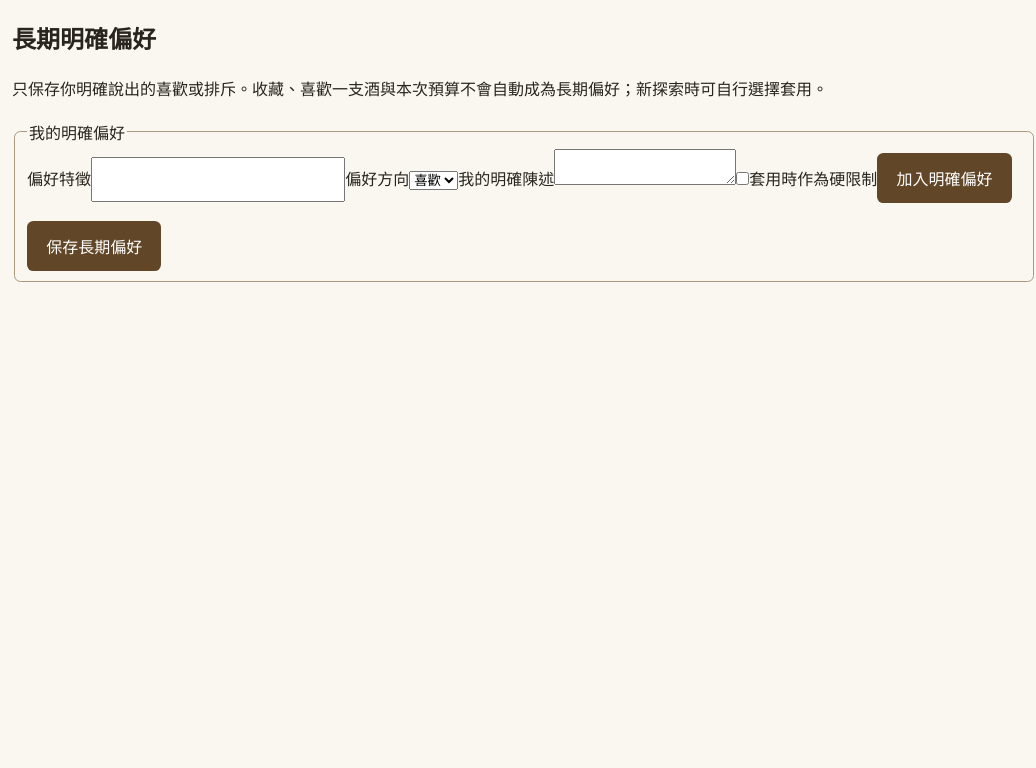
Test: an unknown profile result retries the identical immutable command
Type "果香" into the field labelled "偏好特徵" at (218, 179), box [91,157,345,202]
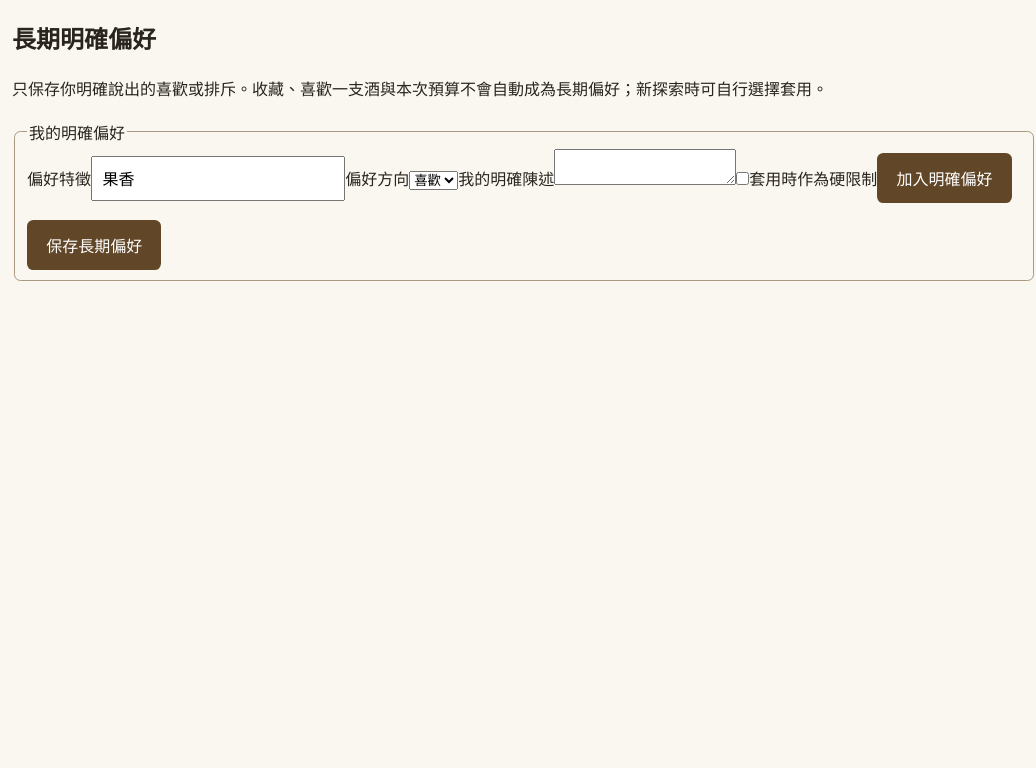
Type "我明確表示喜歡果香" into the text box labelled "我的明確陳述" at (645, 167), box [554,149,736,185]
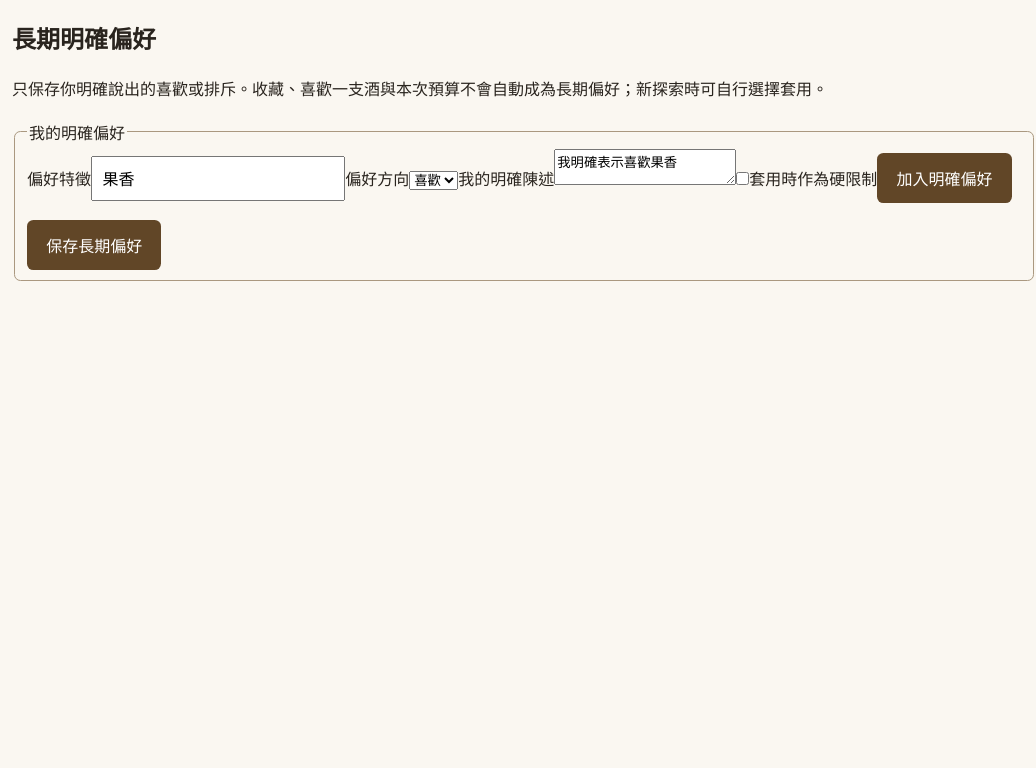
Click the button "加入明確偏好" at (944, 178), box [877,153,1012,203]
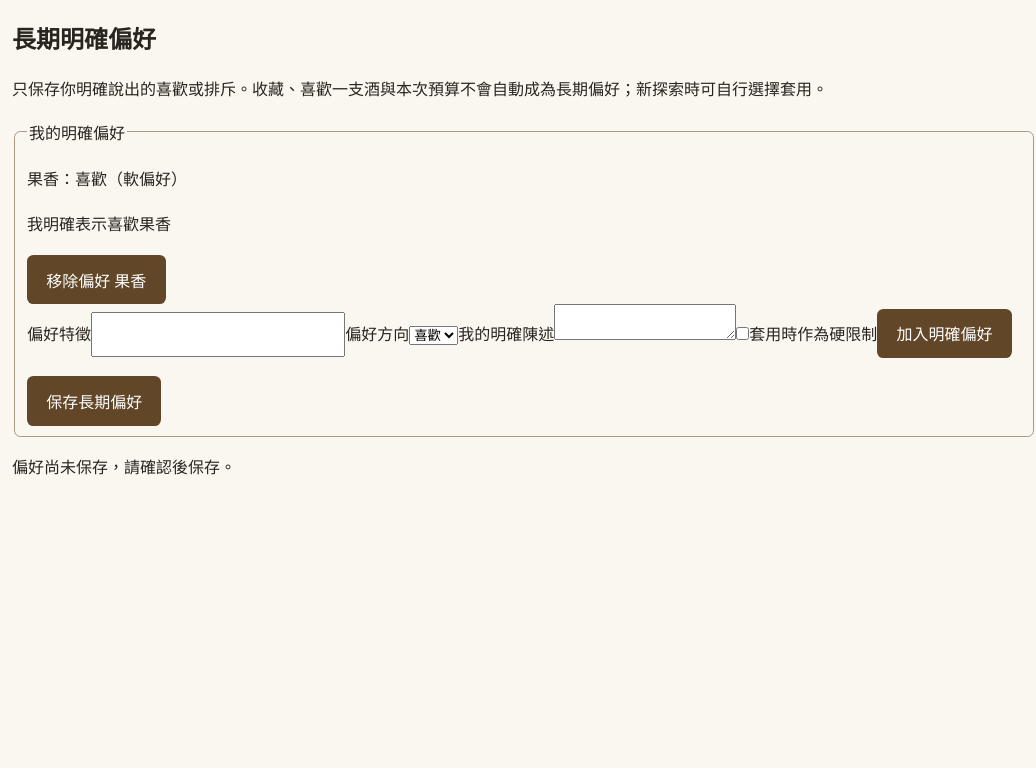
Click the button "保存長期偏好" at (94, 401), box [27,376,161,426]
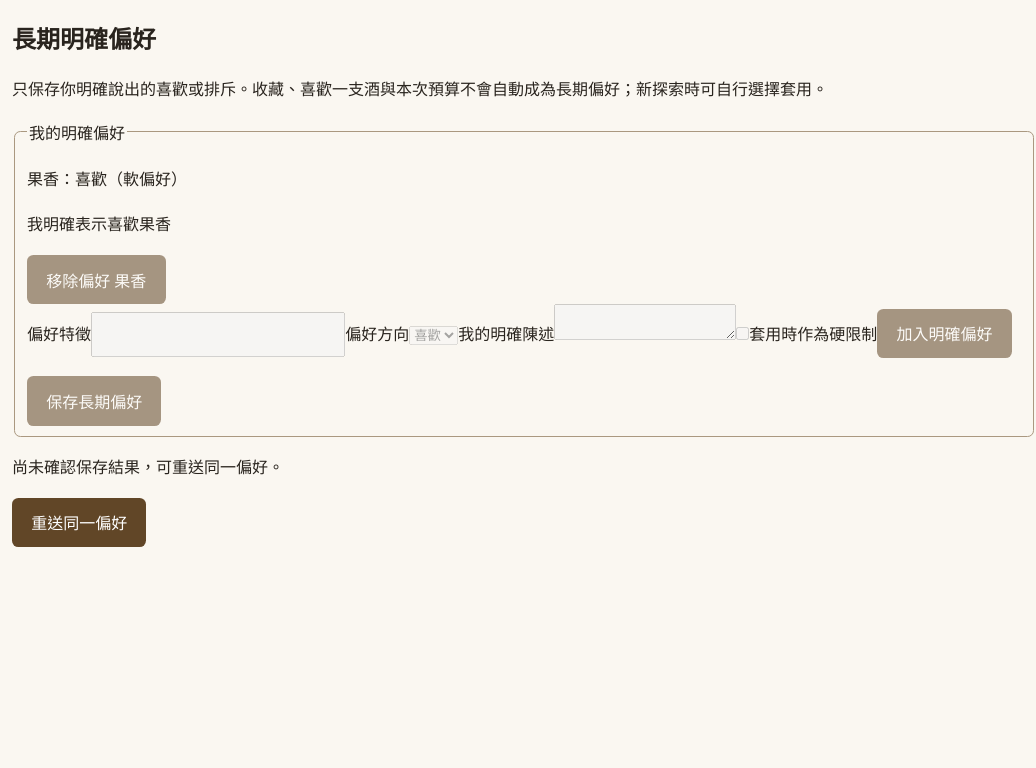
Click the button "重送同一偏好" at (79, 522), box [12,498,146,547]
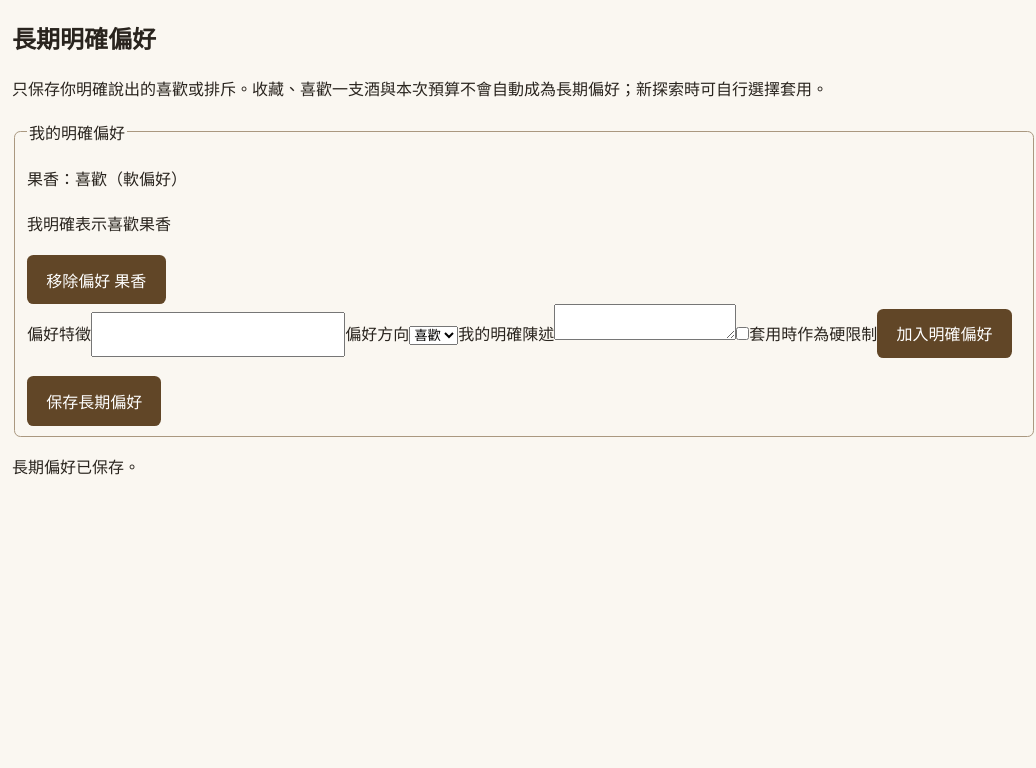
Expected: the text "長期偏好已保存。" is shown, [12,456,140,478]
